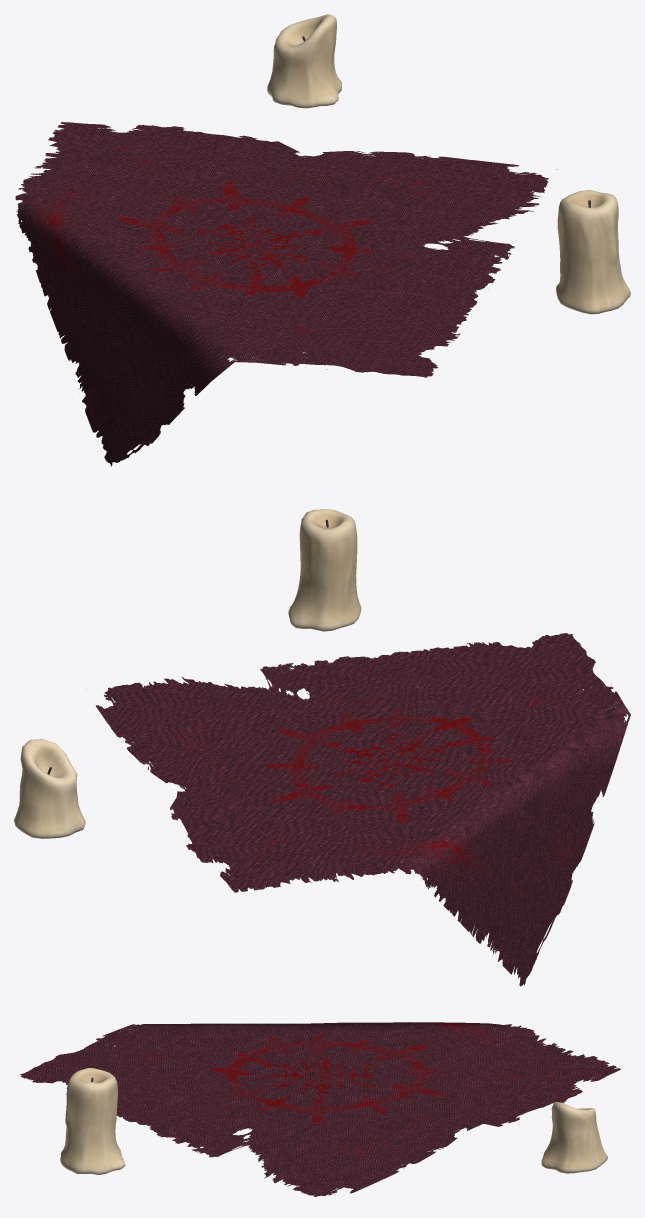
Rendered from ritual_altar_-_game_asset.glb.
3 views of the same model, one above another, from view 1: azimuth 30°, elevation 25°; view 2: azimuth 150°, elevation 25°; view 3: azimuth 270°, elevation 25° (orthographic). The views are drawn at different scales.
Parts seen in each view (by area): view 1: Tissue_low, CandleBig_low, CandleSmall_low; view 2: Tissue_low, CandleBig_low, CandleSmall_low; view 3: Tissue_low, CandleBig_low, CandleSmall_low.
Part boxes in pixels (box(x1,y1,x2,y2)): Tissue_low: box(15, 122, 557, 466); CandleBig_low: box(556, 190, 630, 314); CandleSmall_low: box(267, 14, 341, 108); Tissue_low: box(86, 633, 630, 986); CandleBig_low: box(288, 509, 361, 631); CandleSmall_low: box(14, 739, 85, 838); Tissue_low: box(20, 1022, 620, 1196); CandleBig_low: box(60, 1068, 125, 1174); CandleSmall_low: box(541, 1101, 607, 1173).
Bounding box in the file's own units: 8.64 × 5.53 × 12.1.
2 materials, 2 textured.
